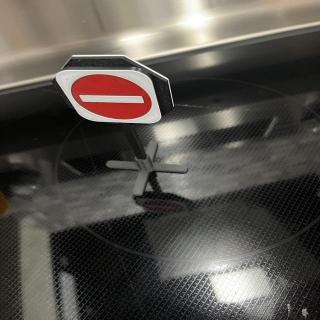sign_noentry: (55, 69, 165, 127)
